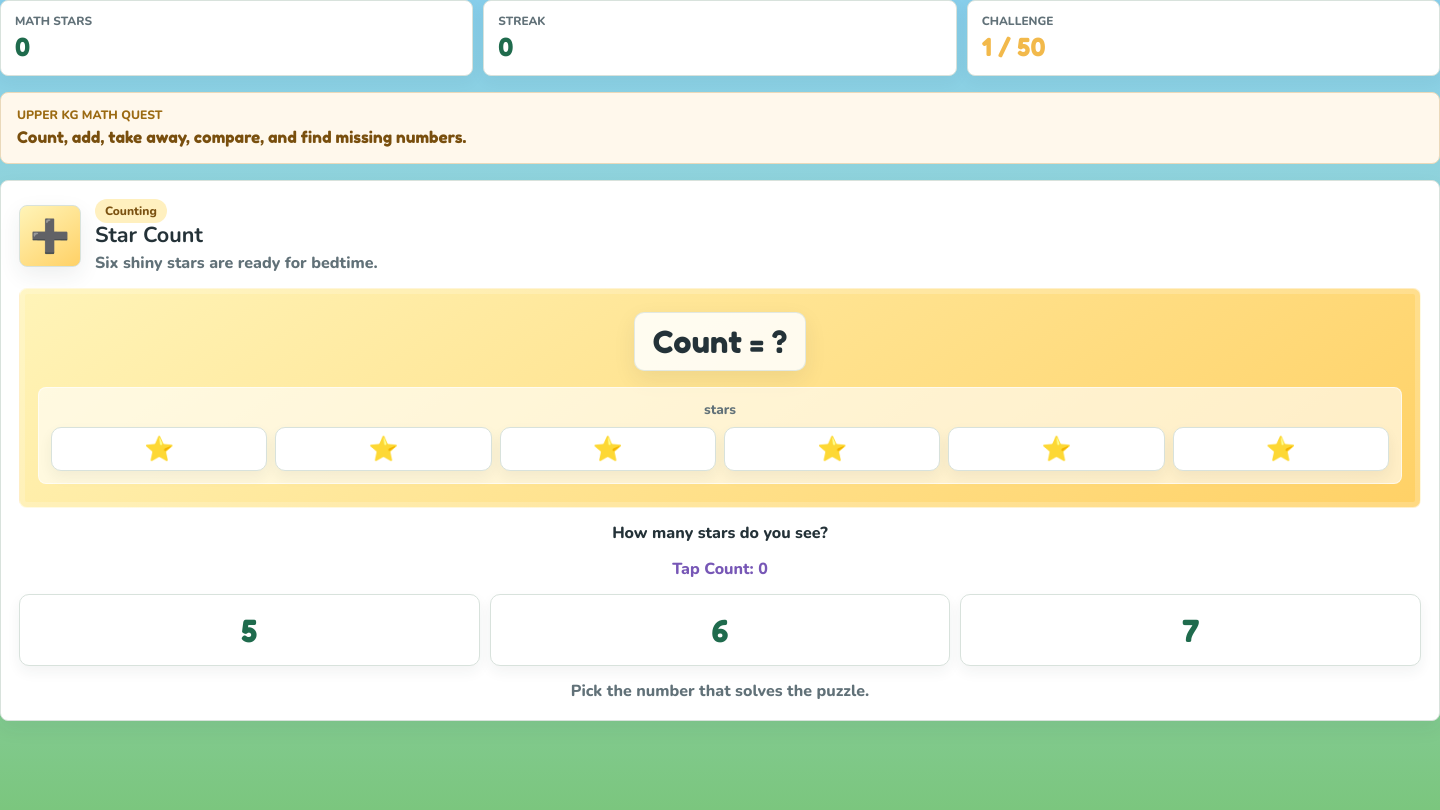
Scenario: MathQuest › awards a math star when the correct answer is chosen
Click the button "6".
click(720, 630)  # box [490,594,950,666]
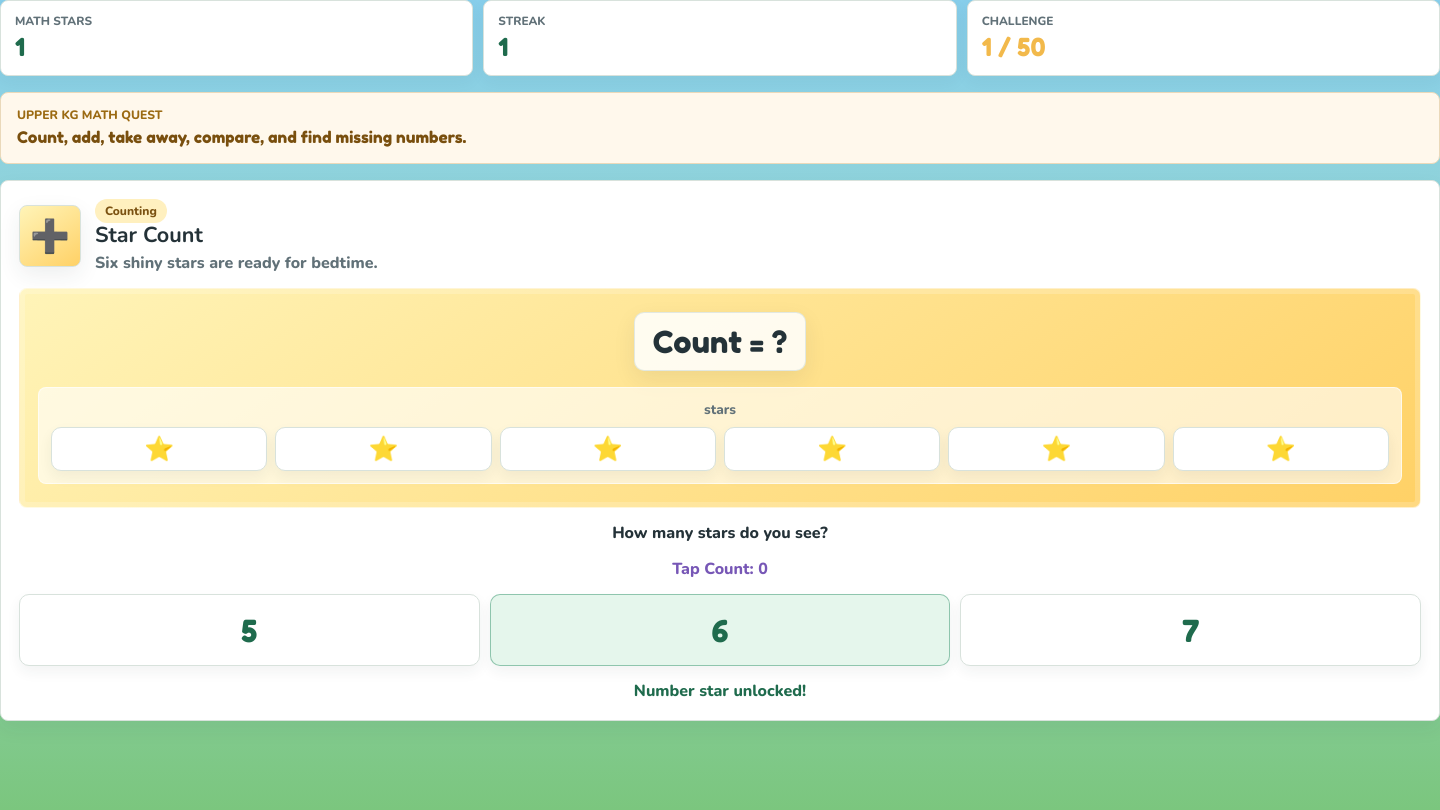
Expected: the text "Number star unlocked!" is shown, [634,680,806,702]
